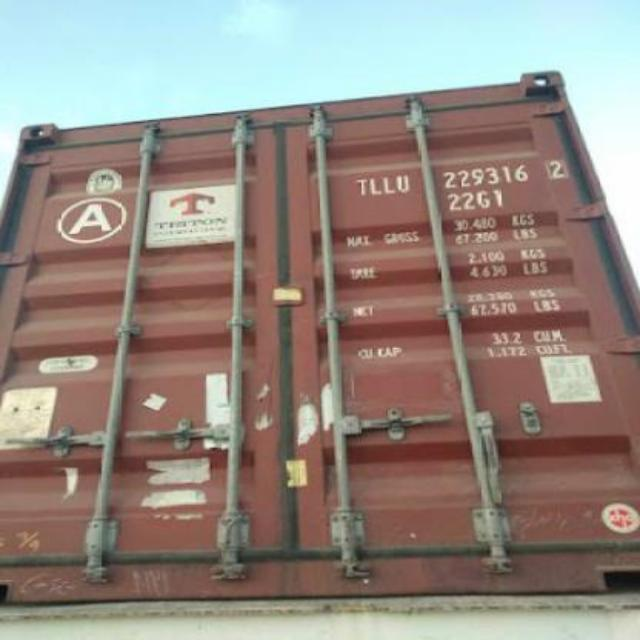1: (501, 162, 514, 188)
2: (544, 155, 568, 181), (438, 163, 456, 193), (454, 160, 470, 190)
3: (484, 162, 500, 188)
6: (514, 156, 530, 186)
9: (470, 165, 482, 191)
L: (380, 170, 396, 198), (368, 172, 382, 198)
T: (354, 172, 366, 200)
U: (396, 170, 412, 197)
